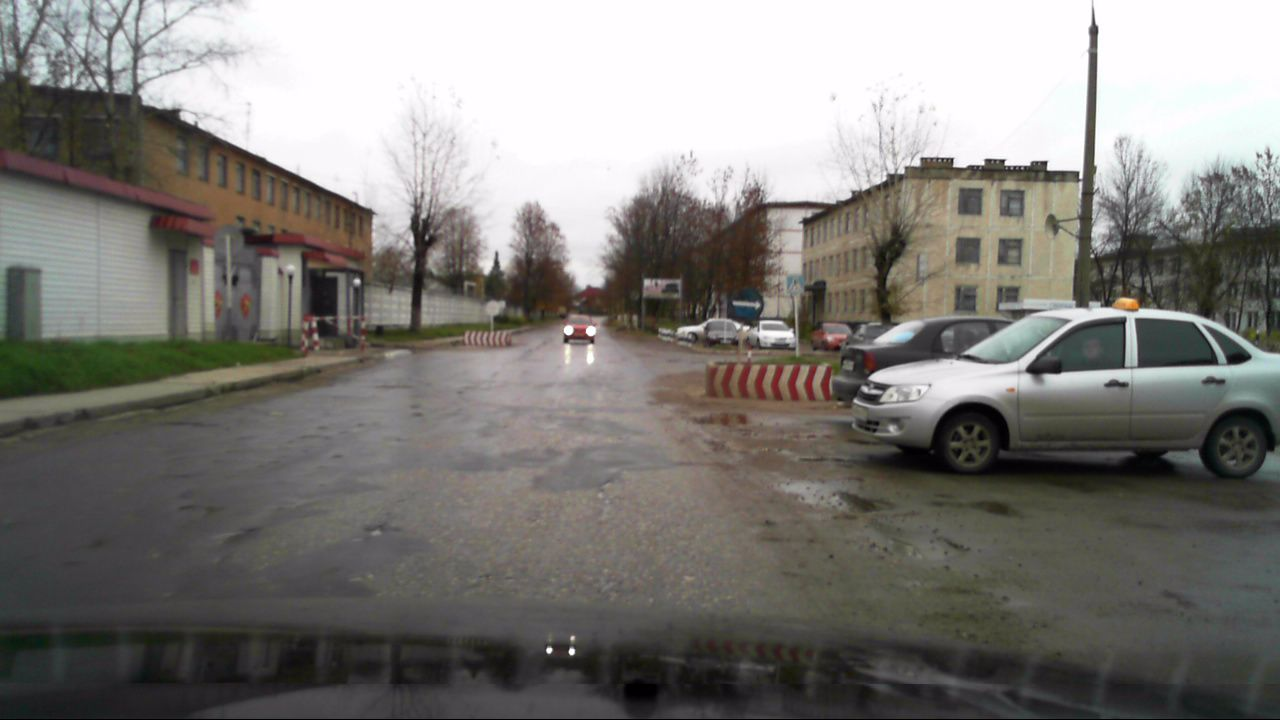Turn Right: (731, 288, 764, 320)
